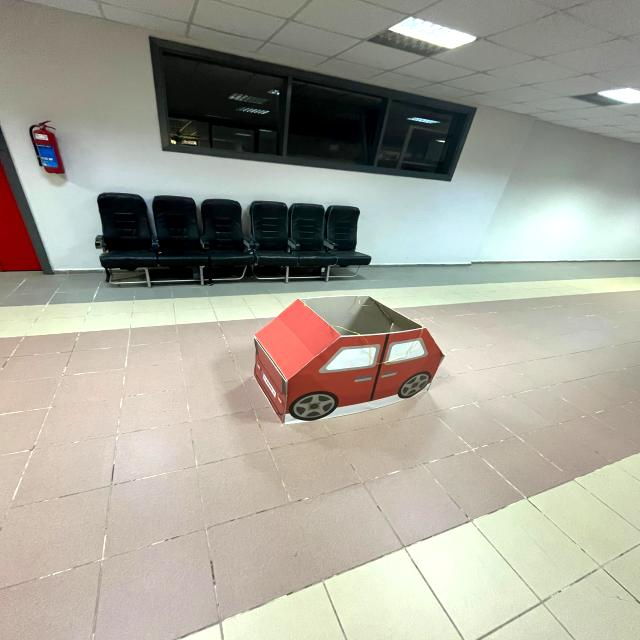red_car: (217, 280, 457, 443)
